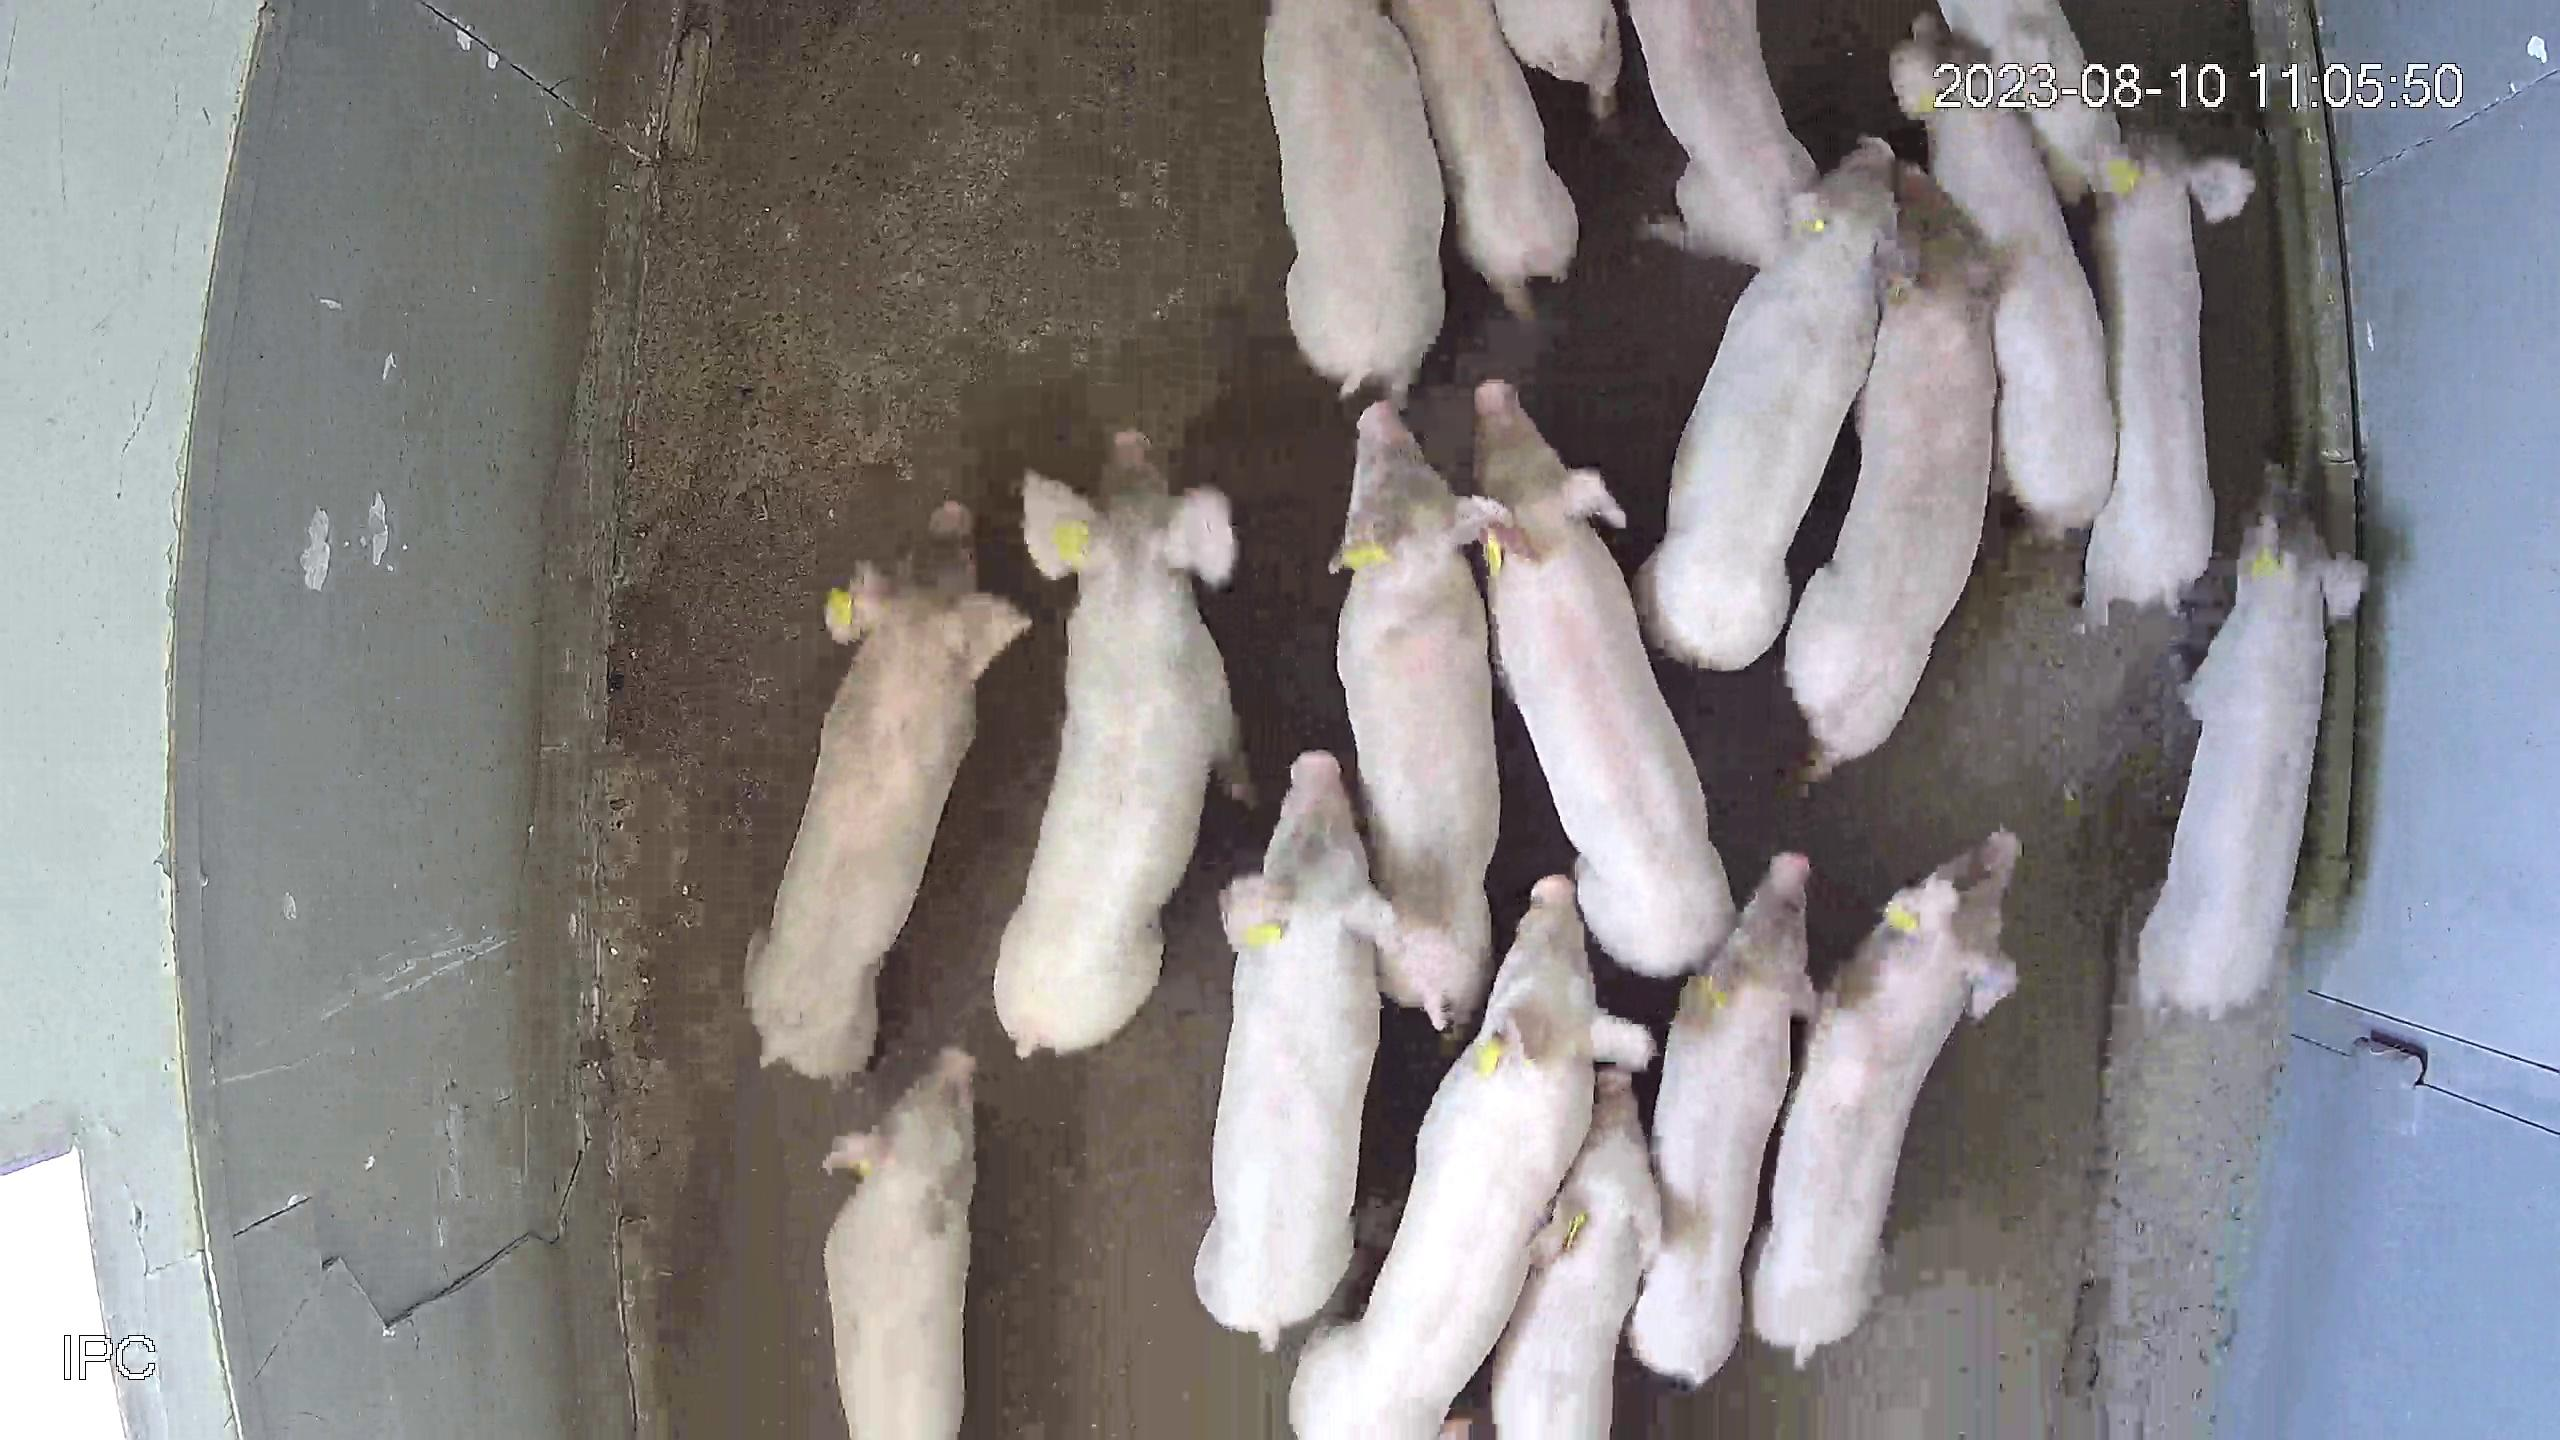Pig: (1290, 874, 1657, 1440), (743, 499, 1029, 1077), (994, 428, 1247, 1056), (1476, 377, 1737, 976), (1754, 828, 2023, 1366), (1637, 134, 1898, 668), (1788, 163, 2000, 772), (2143, 467, 2371, 1016), (1194, 750, 1396, 1350), (1893, 10, 2119, 532), (1332, 398, 1508, 1030), (1631, 851, 1818, 1386), (2088, 133, 2259, 624), (1264, 0, 1446, 393), (1493, 1067, 1664, 1440), (822, 1047, 975, 1440), (1394, 0, 1579, 314), (1630, 0, 1820, 264), (1944, 0, 2125, 198), (1496, 0, 1623, 116)
